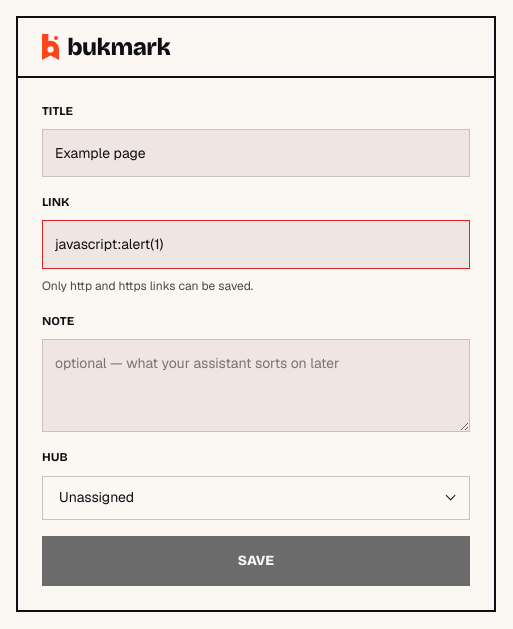
Test: SavePage › refuses a link the server cannot save, and says why
Expected: the button "Save" is disabled, [42,536,470,586]
Submit the form named "Save a link"
Replace the text in the field labelled "Link" with "https://example.com/a": (256, 245) [42,220,470,269]
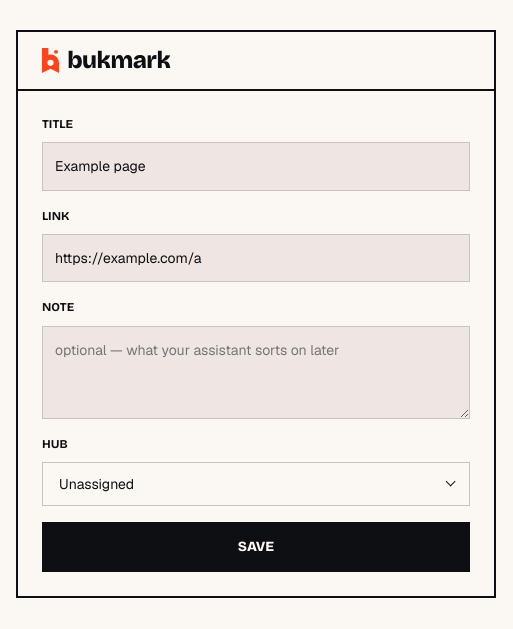
Now the button "Save" is enabled, box [42,522,470,572]
